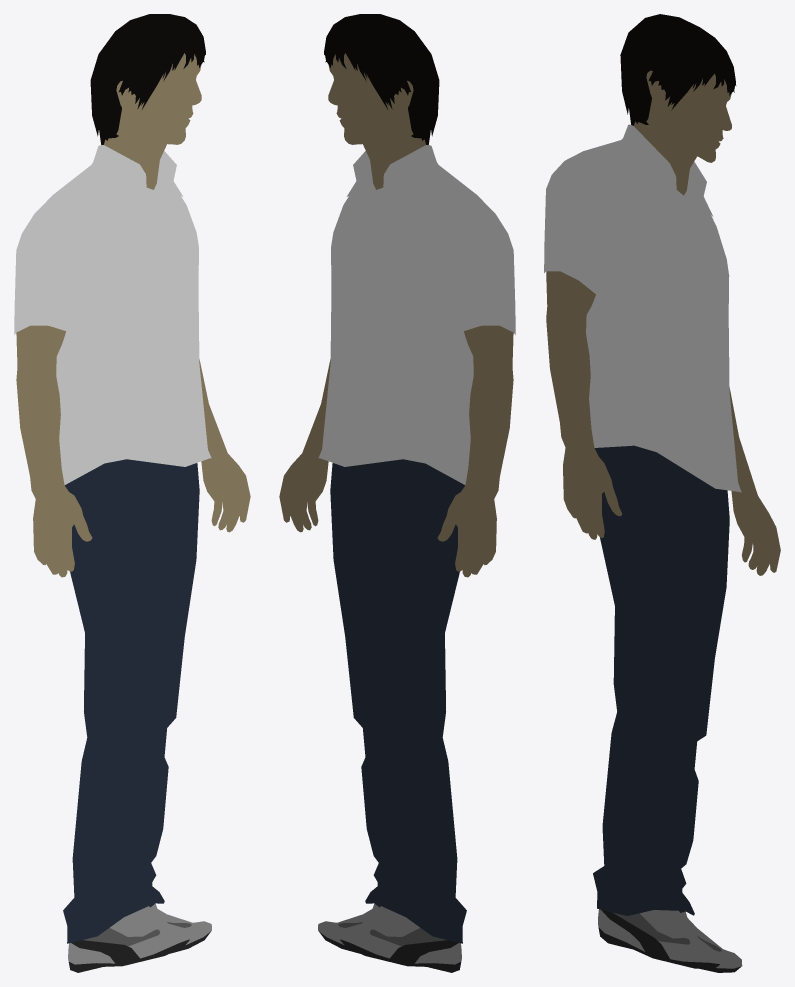
3 views of the same model, side by side, from view 1: azimuth 30°, elevation 25°; view 2: azimuth 150°, elevation 25°; view 3: azimuth 330°, elevation 25° (orthographic).
Parts seen in each view (by area): view 1: Mesh1_Model; view 2: Mesh1_Model; view 3: Mesh1_Model.
Part boxes in pixels (x1=…): Mesh1_Model: x1=14, y1=14, x2=250, y2=972; Mesh1_Model: x1=279, y1=14, x2=515, y2=972; Mesh1_Model: x1=544, y1=14, x2=780, y2=972.
Bounding box in the file's own units: 0.4428 × 1.69 × 0.
